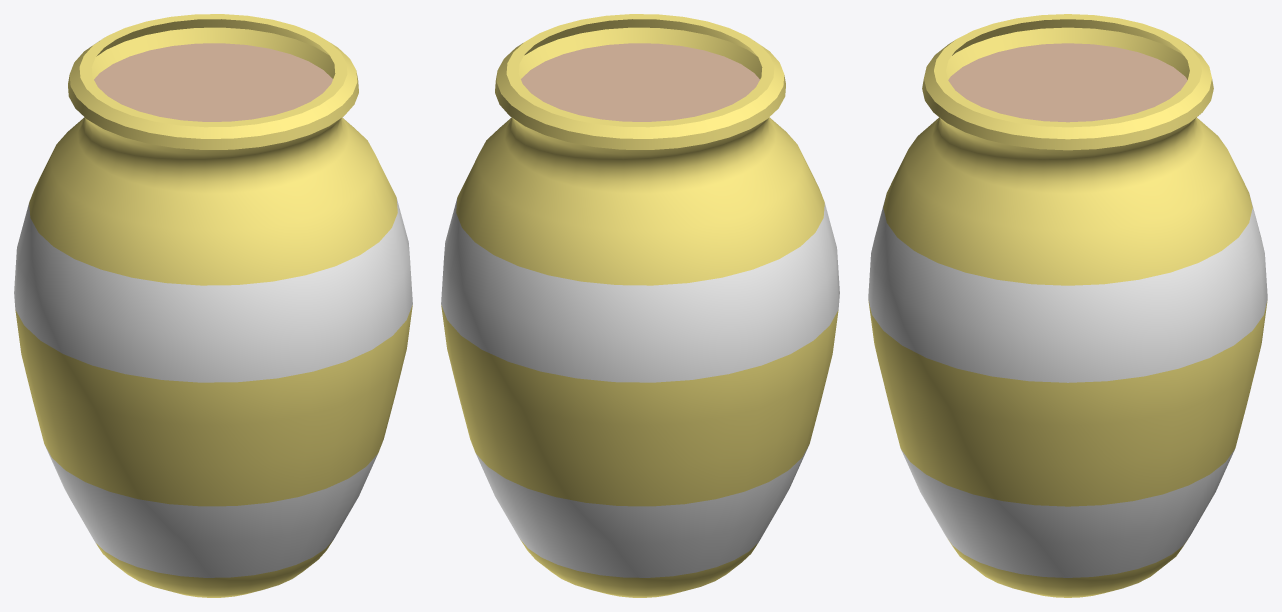
The model's file is Empty Vase.fbx.
3 views of the same model, side by side, from view 1: azimuth 30°, elevation 25°; view 2: azimuth 150°, elevation 25°; view 3: azimuth 270°, elevation 25° (orthographic).
Parts seen in each view (by area): view 1: Vase; view 2: Vase; view 3: Vase.
Part boxes in pixels (x1,y1,x2,y2): Vase: [14, 14, 412, 597]; Vase: [441, 14, 839, 597]; Vase: [868, 14, 1267, 597].
Bounding box in the file's own units: 27.15 × 37.47 × 27.15.
